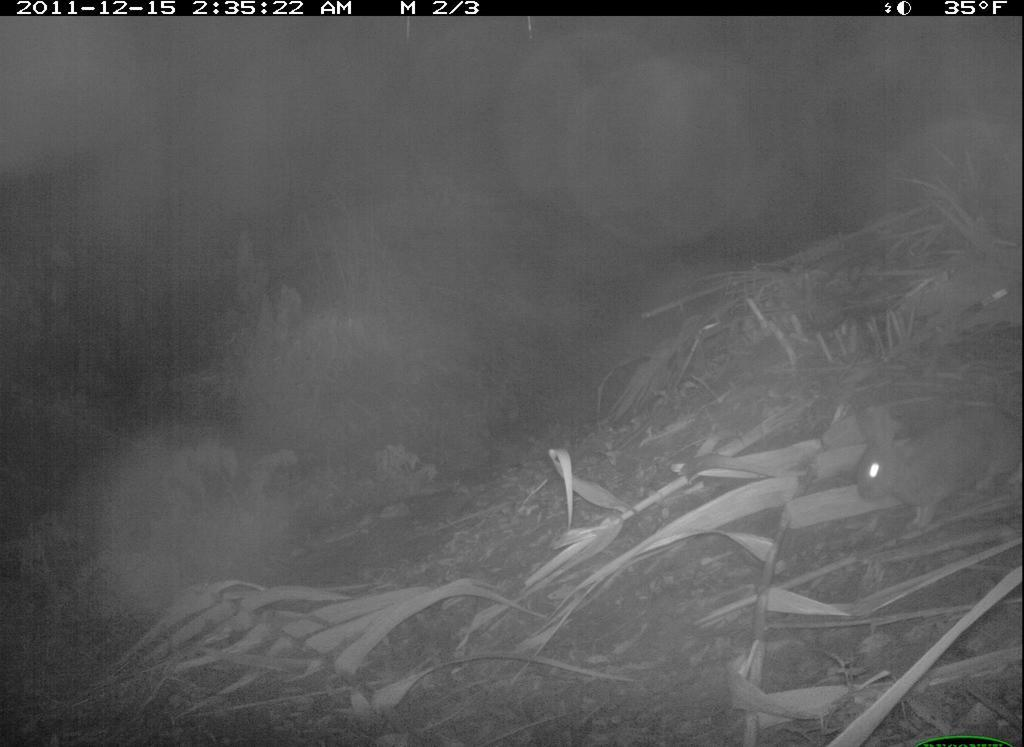rabbit: (842, 388, 1023, 529)
